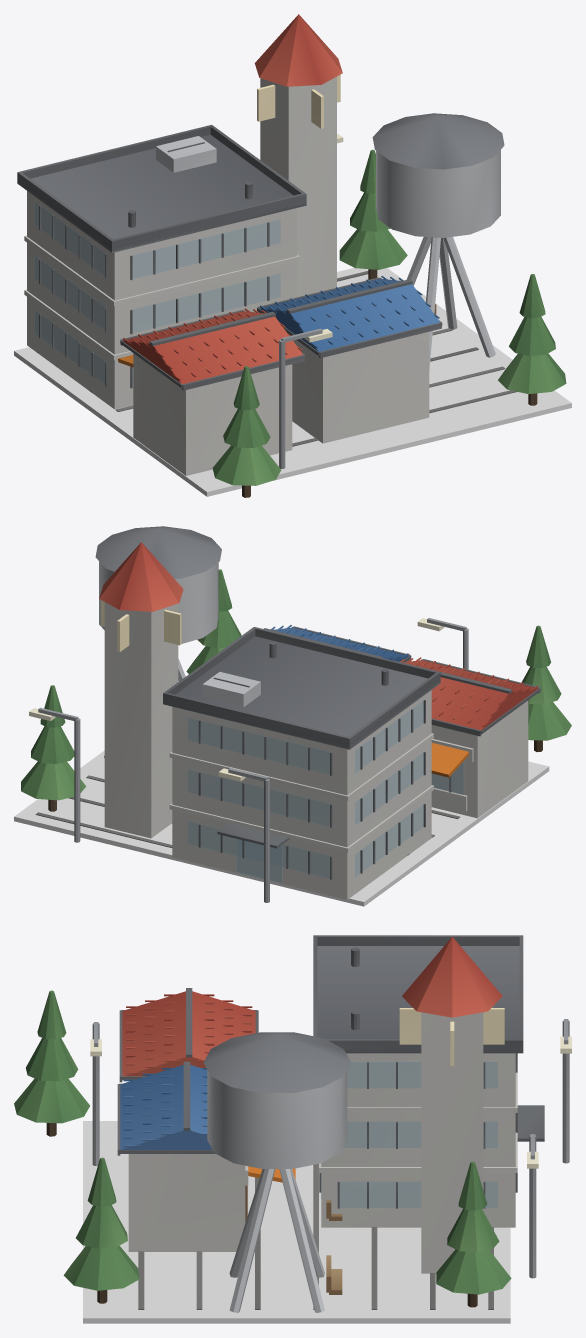
The model's file is Civic_P2.fbx.
The picture shows the model from 3 angles, top to bottom: view 1: azimuth 30°, elevation 25°; view 2: azimuth 150°, elevation 25°; view 3: azimuth 270°, elevation 25°; orthographic projection. The views are drawn at different scales.
Parts seen in each view (by area): view 1: Civic.Hall, Civic.Shop1, Civic.Shop0, Civic.WaterTower, Civic.Plaza, Civic.Tower, Civic.Tree2, Civic.Tree1, Civic.Tree0, Civic.Lamp0, Civic.Paving; view 2: Civic.Hall, Civic.Tower, Civic.Shop0, Civic.Plaza, Civic.WaterTower, Civic.Tree0, Civic.Tree2, Civic.Tree1, Civic.Shop1, Civic.Lamp1, Civic.Lamp2, Civic.Paving (+1 smaller); view 3: Civic.Hall, Civic.Plaza, Civic.WaterTower, Civic.Tower, Civic.Shop1, Civic.Shop0, Civic.Tree2, Civic.Tree0, Civic.Tree1, Civic.Paving, Civic.Lamp2, Civic.Lamp1 (+2 smaller).
Part boxes in pixels (x1=…): Civic.Hall: x1=17, y1=125, x2=306, y2=409; Civic.Shop1: x1=257, y1=275, x2=442, y2=443; Civic.Shop0: x1=118, y1=308, x2=305, y2=475; Civic.WaterTower: x1=372, y1=113, x2=504, y2=369; Civic.Plaza: x1=14, y1=268, x2=571, y2=496; Civic.Tower: x1=254, y1=14, x2=342, y2=297; Civic.Tree2: x1=212, y1=366, x2=281, y2=497; Civic.Tree1: x1=498, y1=274, x2=566, y2=405; Civic.Tree0: x1=339, y1=149, x2=407, y2=279; Civic.Lamp0: x1=279, y1=328, x2=332, y2=468; Civic.Paving: x1=37, y1=271, x2=517, y2=446; Civic.Hall: x1=163, y1=627, x2=440, y2=899; Civic.Tower: x1=99, y1=542, x2=183, y2=838; Civic.Shop0: x1=394, y1=657, x2=540, y2=818; Civic.Plaza: x1=14, y1=750, x2=549, y2=906; Civic.WaterTower: x1=95, y1=526, x2=221, y2=757; Civic.Tree0: x1=21, y1=685, x2=86, y2=811; Civic.Tree2: x1=521, y1=625, x2=571, y2=751; Civic.Tree1: x1=186, y1=569, x2=241, y2=673; Civic.Shop1: x1=264, y1=625, x2=411, y2=662; Civic.Lamp1: x1=29, y1=707, x2=80, y2=842; Civic.Lamp2: x1=218, y1=768, x2=269, y2=902; Civic.Paving: x1=35, y1=775, x2=459, y2=855; Civic.Hall: x1=313, y1=935, x2=544, y2=1227; Civic.Plaza: x1=83, y1=1121, x2=510, y2=1323; Civic.WaterTower: x1=203, y1=1032, x2=350, y2=1312; Civic.Tower: x1=399, y1=936, x2=504, y2=1273; Civic.Shop1: x1=117, y1=1061, x2=295, y2=1251; Civic.Shop0: x1=119, y1=988, x2=258, y2=1082; Civic.Tree2: x1=14, y1=990, x2=89, y2=1136; Civic.Tree0: x1=436, y1=1161, x2=511, y2=1307; Civic.Tree1: x1=63, y1=1157, x2=139, y2=1303; Civic.Paving: x1=138, y1=1163, x2=493, y2=1309; Civic.Lamp2: x1=560, y1=1019, x2=571, y2=1163; Civic.Lamp1: x1=527, y1=1134, x2=538, y2=1278.
Bounding box in the file's own units: 2524 × 1871 × 2870.
